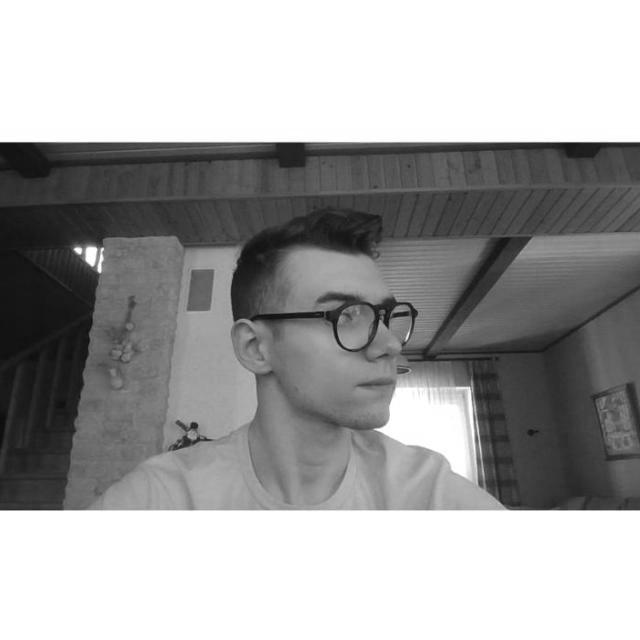real: (290, 252, 401, 430)
